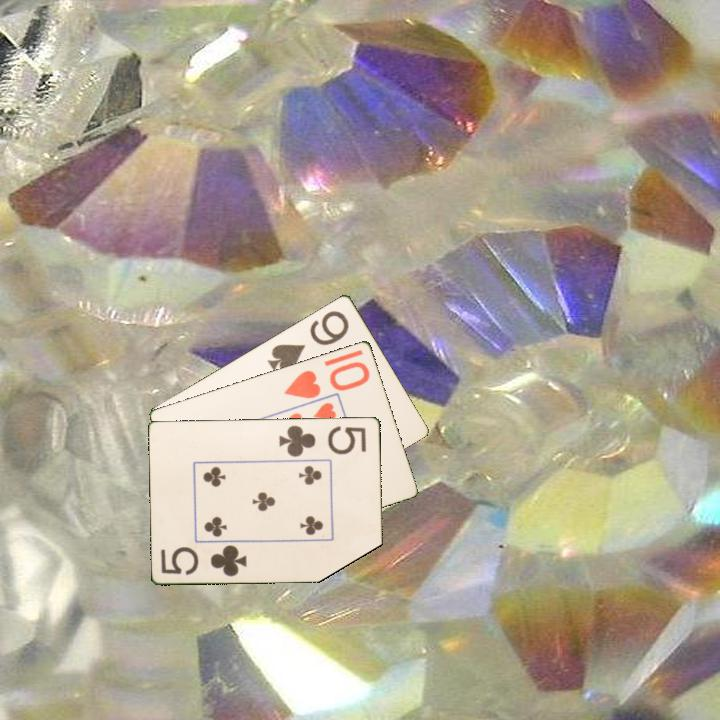10h: (280, 358, 373, 401)
5c: (157, 541, 250, 579), (275, 422, 369, 459)
9s: (264, 307, 352, 375)
